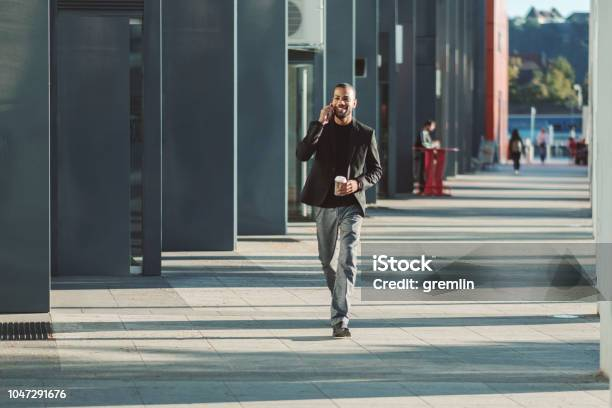person: (296, 82, 384, 337)
